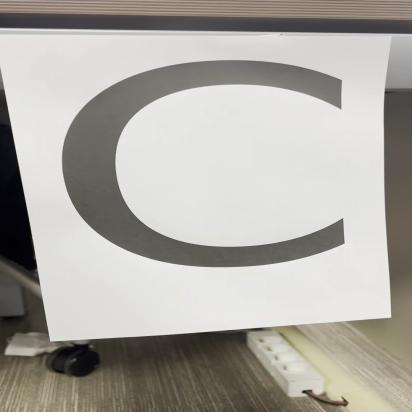seat: (8, 29, 397, 337)
